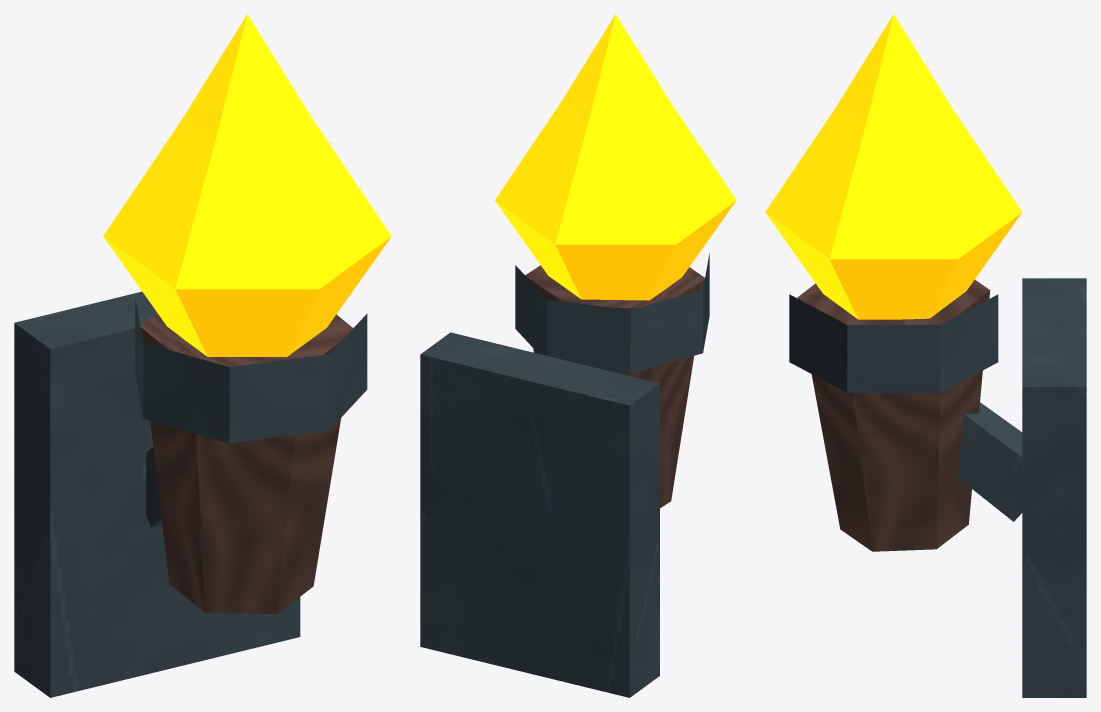
Rendered from wall_torch.glb.
3 renders of one model, left to right at view 1: azimuth 30°, elevation 25°; view 2: azimuth 150°, elevation 25°; view 3: azimuth 270°, elevation 25°, orthographic. The views are drawn at different scales.
Visible parts, largest first — view 1: base_mesh, flame_0_mesh; view 2: base_mesh, flame_0_mesh; view 3: base_mesh, flame_0_mesh.
Part boxes in pixels (x1=…): base_mesh: x1=14, y1=291, x2=367, y2=697; flame_0_mesh: x1=103, y1=14, x2=391, y2=356; base_mesh: x1=420, y1=253, x2=709, y2=697; flame_0_mesh: x1=495, y1=14, x2=736, y2=300; base_mesh: x1=789, y1=278, x2=1086, y2=697; flame_0_mesh: x1=765, y1=14, x2=1022, y2=319.
Bounding box in the file's own units: 0.12 × 0.324 × 0.15.
4 materials, 2 textured.
